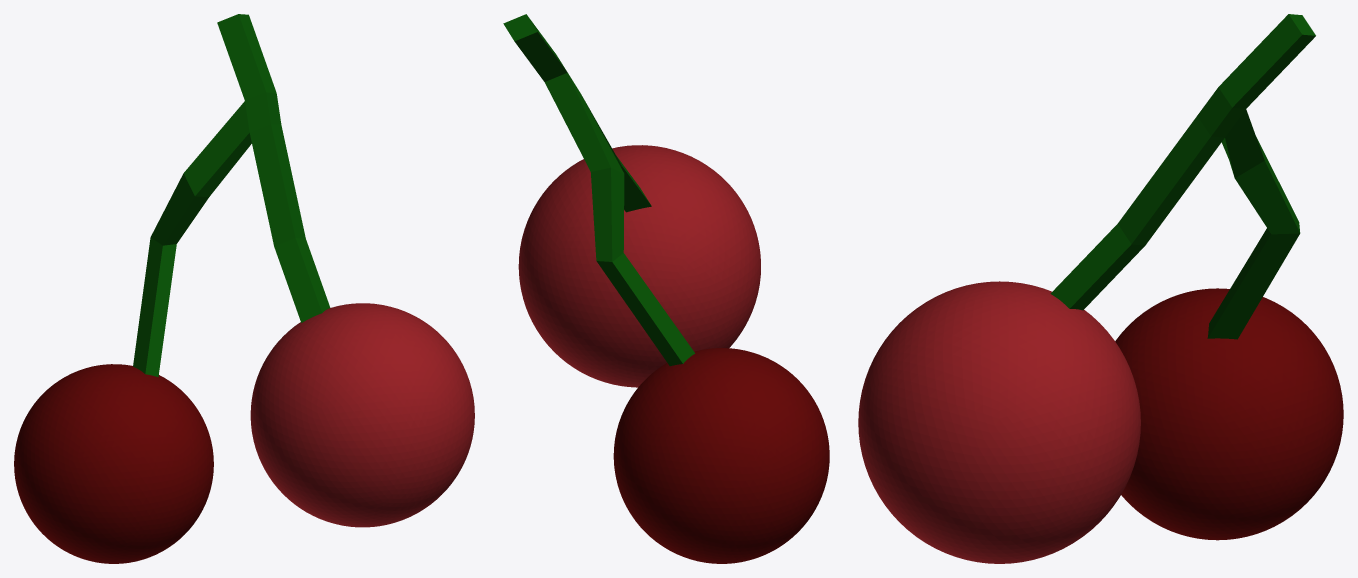
File: berry.fbx
3 renders of one model, left to right at view 1: azimuth 30°, elevation 25°; view 2: azimuth 150°, elevation 25°; view 3: azimuth 270°, elevation 25°, orthographic. The views are drawn at different scales.
Visible parts, largest first — view 1: Icosphere.007, Icosphere.008, Cylinder; view 2: Icosphere.007, Icosphere.008, Cylinder; view 3: Icosphere.007, Icosphere.008, Cylinder.
Boxes of the visible parts, bbox=[...] form: Icosphere.007: bbox=[250, 303, 474, 527]; Icosphere.008: bbox=[14, 364, 213, 563]; Cylinder: bbox=[133, 14, 330, 377]; Icosphere.007: bbox=[518, 145, 760, 387]; Icosphere.008: bbox=[613, 348, 829, 563]; Cylinder: bbox=[503, 14, 694, 366]; Icosphere.007: bbox=[858, 281, 1140, 563]; Icosphere.008: bbox=[1115, 288, 1343, 540]; Cylinder: bbox=[1050, 14, 1315, 339].
Size of the model in its own units: 43.93 by 58.59 by 42.37.
